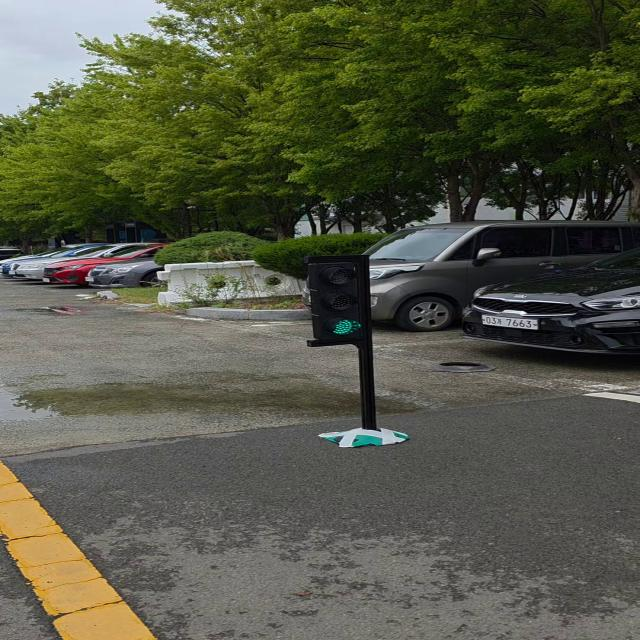green: (305, 255, 376, 349)
